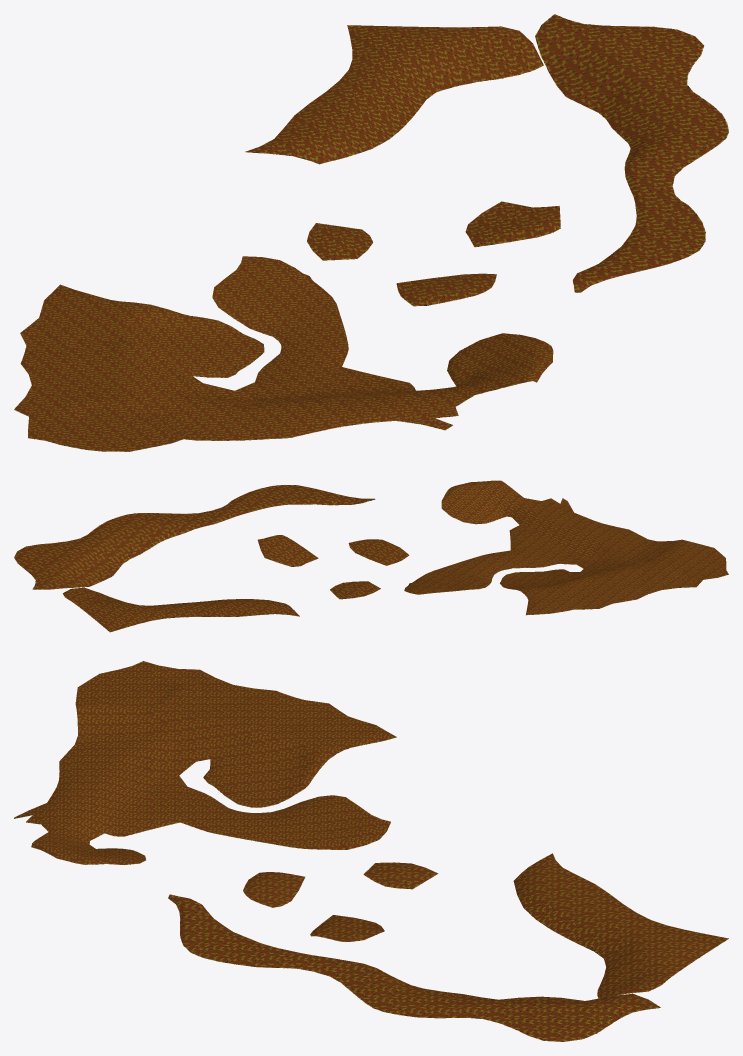
File: LVL_ROAST_MUTTON_DRIED_LEAVES03.fbx
3 renders of one model, top to bottom at view 1: azimuth 30°, elevation 25°; view 2: azimuth 150°, elevation 25°; view 3: azimuth 270°, elevation 25°, orthographic. The views are drawn at different scales.
Parts seen in each view (by area): view 1: LVL_ROAST_MUTTON_DRIED_LEAVES03; view 2: LVL_ROAST_MUTTON_DRIED_LEAVES03; view 3: LVL_ROAST_MUTTON_DRIED_LEAVES03.
Boxes of the visible parts, x1,y1,x2,y2 form: LVL_ROAST_MUTTON_DRIED_LEAVES03: (14, 14, 728, 451); LVL_ROAST_MUTTON_DRIED_LEAVES03: (14, 480, 728, 632); LVL_ROAST_MUTTON_DRIED_LEAVES03: (14, 661, 728, 1041).
Bounding box in the file's own units: 710241 × 23257 × 568338.
6 materials, 6 textured.
